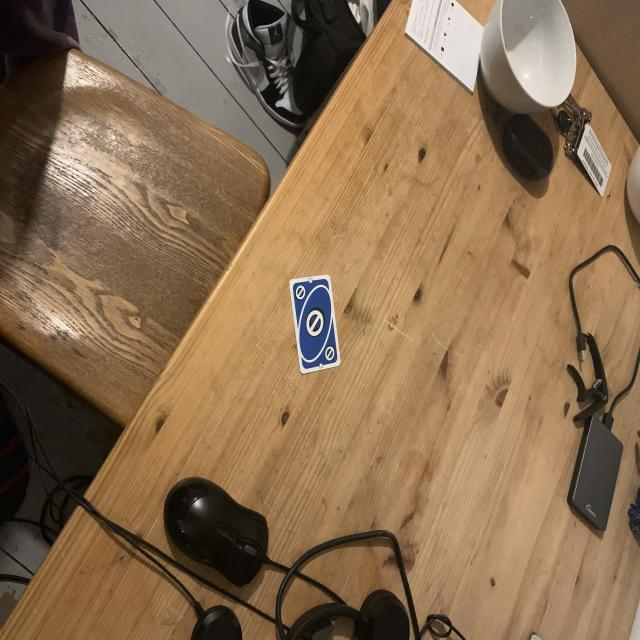lblueskip-20: (294, 282, 307, 303)
